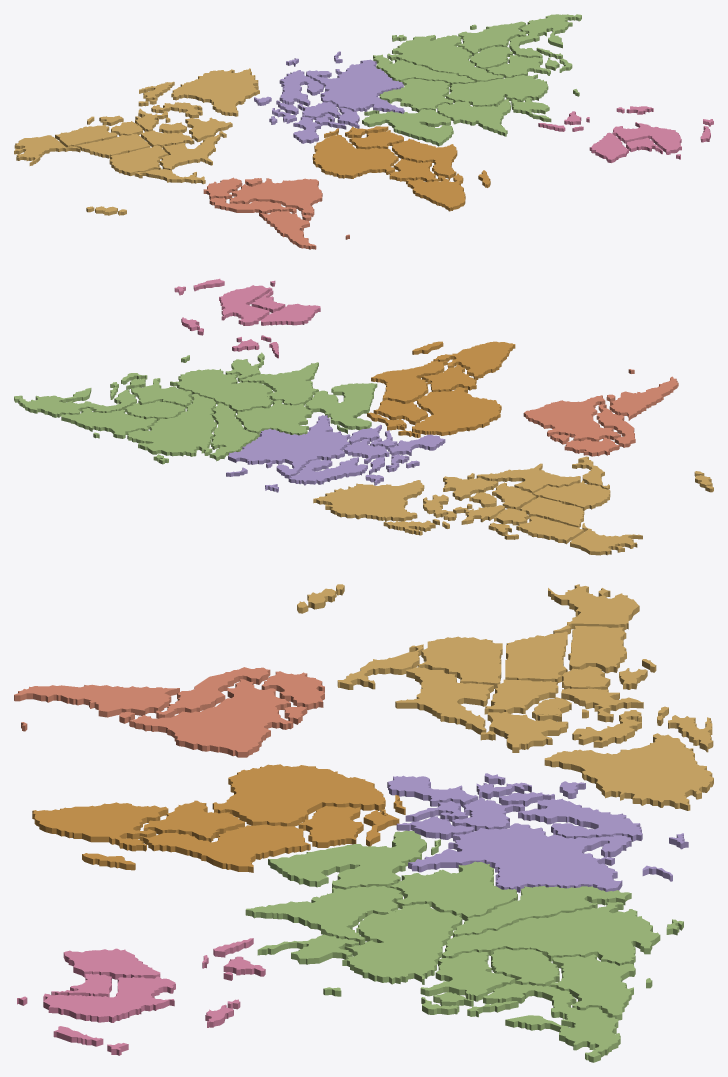
The model's file is world-map-expanded.glb.
3 views of the same model, one above another, from view 1: azimuth 30°, elevation 25°; view 2: azimuth 150°, elevation 25°; view 3: azimuth 270°, elevation 25° (orthographic). The views are drawn at different scales.
Parts seen in each view (by area): view 1: territory__greenland, territory__ukraine, territory__siberia, territory__brazil, territory__china, territory__middleEast, territory__northwestTerritory, territory__kamchatka, territory__afghanistan, territory__india, territory__eastAfrica, territory__westAfrica (+26 smaller); view 2: territory__greenland, territory__ukraine, territory__siberia, territory__brazil, territory__china, territory__northwestTerritory, territory__middleEast, territory__kamchatka, territory__afghanistan, territory__northAfrica, territory__india, territory__eastAfrica (+25 smaller); view 3: territory__greenland, territory__ukraine, territory__siberia, territory__brazil, territory__china, territory__middleEast, territory__northwestTerritory, territory__kamchatka, territory__eastAfrica, territory__india, territory__afghanistan, territory__southAfrica (+29 smaller).
Part boxes in pixels (left/top/right/bottom): territory__greenland: left=138, top=68, right=259, bottom=118; territory__ukraine: left=306, top=59, right=404, bottom=113; territory__siberia: left=387, top=34, right=503, bottom=82; territory__brazil: left=229, top=178, right=322, bottom=216; territory__china: left=446, top=74, right=548, bottom=106; territory__middleEast: left=362, top=109, right=453, bottom=146; territory__northwestTerritory: left=55, top=108, right=170, bottom=147; territory__kamchatka: left=509, top=14, right=581, bottom=59; territory__afghanistan: left=379, top=78, right=453, bottom=112; territory__india: left=437, top=98, right=511, bottom=136; territory__eastAfrica: left=392, top=138, right=457, bottom=180; territory__westAfrica: left=321, top=149, right=398, bottom=178; territory__greenland: left=313, top=480, right=456, bottom=535; territory__ukraine: left=228, top=415, right=350, bottom=478; territory__siberia: left=127, top=394, right=216, bottom=464; territory__brazil: left=523, top=395, right=621, bottom=444; territory__china: left=170, top=369, right=272, bottom=413; territory__northwestTerritory: left=453, top=503, right=583, bottom=544; territory__middleEast: left=305, top=383, right=377, bottom=433; territory__kamchatka: left=14, top=382, right=136, bottom=417; territory__afghanistan: left=236, top=400, right=313, bottom=435; territory__northAfrica: left=397, top=400, right=490, bottom=437; territory__india: left=241, top=362, right=318, bottom=406; territory__eastAfrica: left=371, top=361, right=447, bottom=403; territory__greenland: left=544, top=706, right=713, bottom=810; territory__ukraine: left=408, top=823, right=631, bottom=892; territory__siberia: left=442, top=902, right=683, bottom=965; territory__brazil: left=129, top=679, right=307, bottom=757; territory__china: left=342, top=903, right=462, bottom=984; territory__middleEast: left=268, top=830, right=440, bottom=889; territory__northwestTerritory: left=561, top=626, right=656, bottom=722; territory__kamchatka: left=467, top=983, right=620, bottom=1062; territory__eastAfrica: left=139, top=824, right=310, bottom=872; territory__india: left=245, top=885, right=416, bottom=945; territory__afghanistan: left=390, top=861, right=517, bottom=920; territory__southAfrica: left=32, top=802, right=168, bottom=851.
Size of the model in its own units: 14.15 by 0.08 by 8.85.
